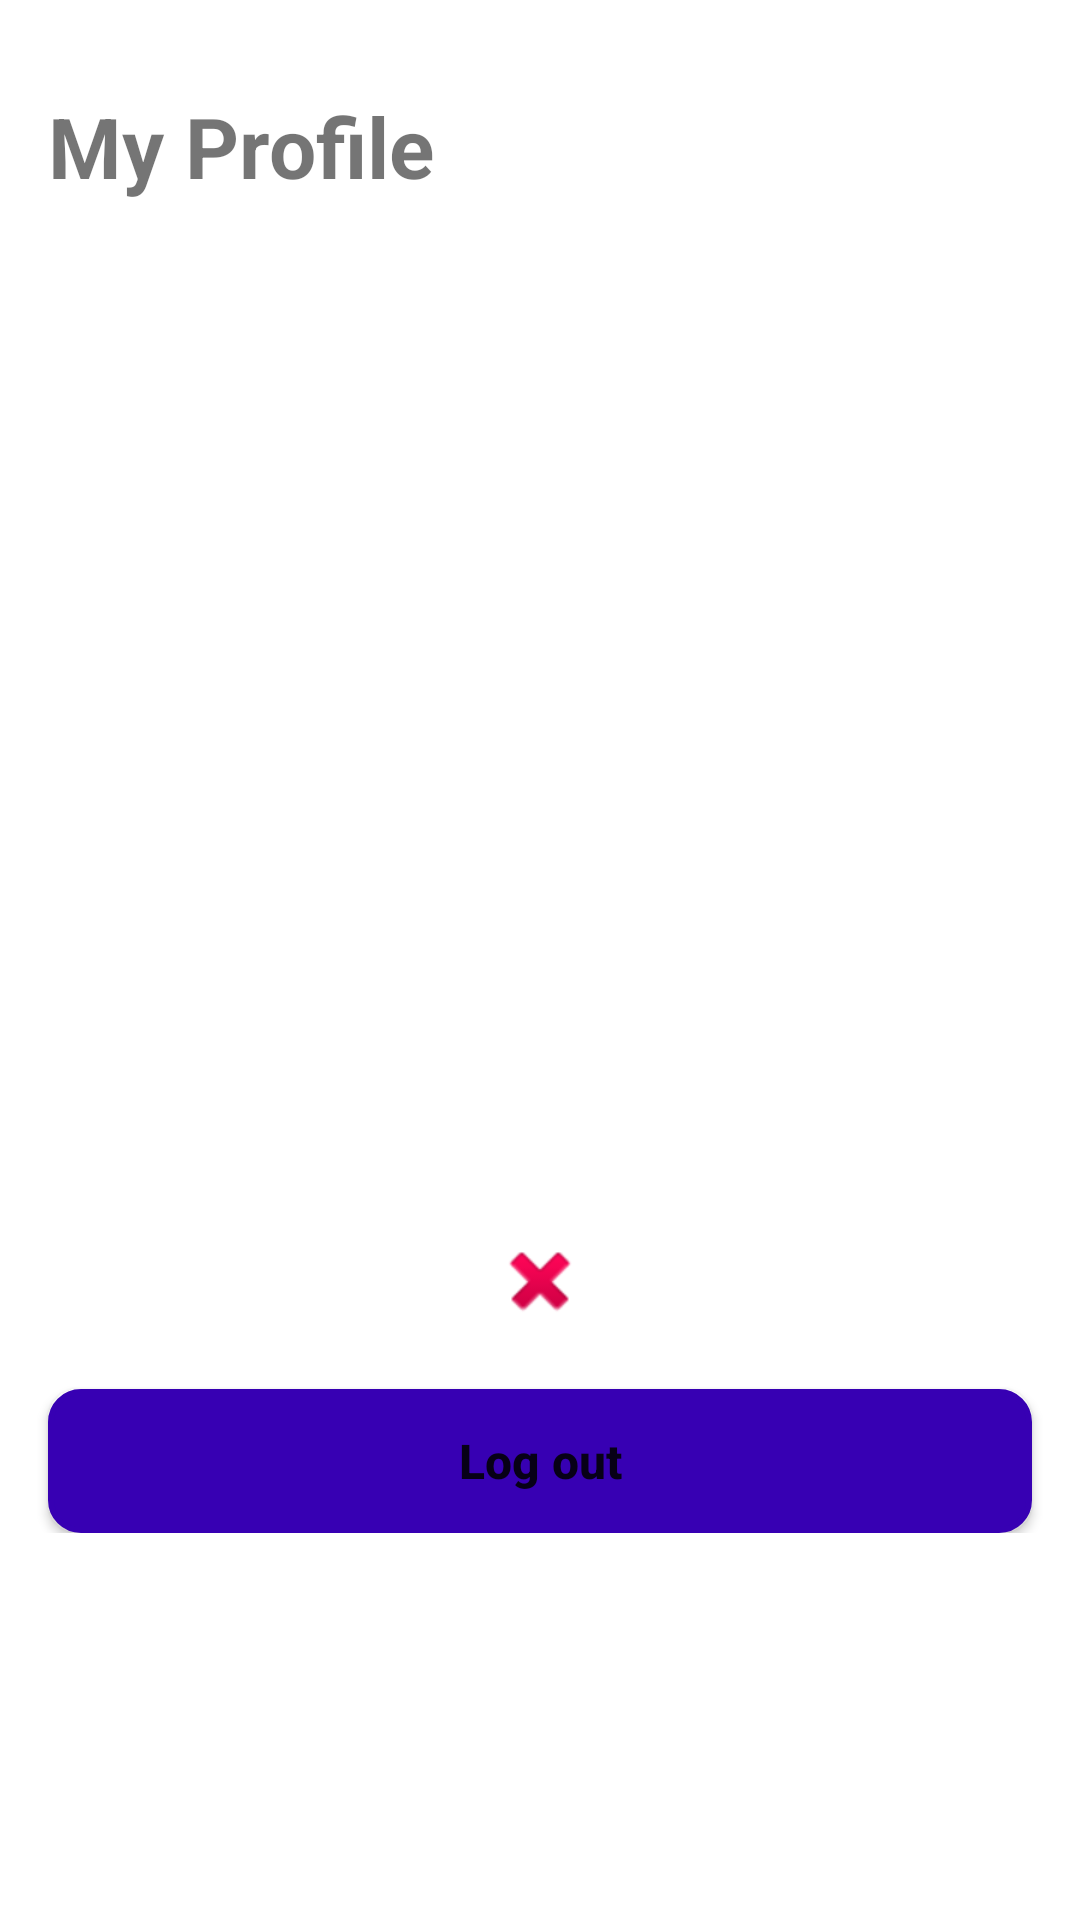

Icon bounding boxes for this 1080px x 1920px phone screenshot, format (x1, y1, x2, y2):
delete: (509, 1252, 571, 1311)
